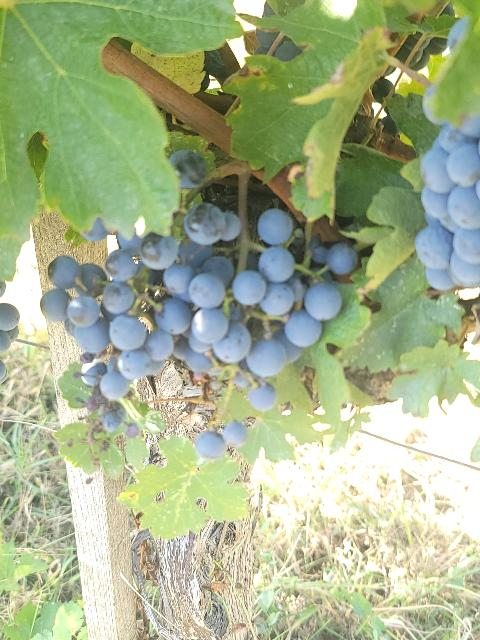grapes: (41, 209, 341, 411)
